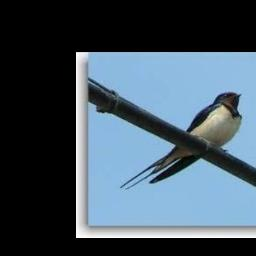Swallow: (121, 92, 243, 190)
